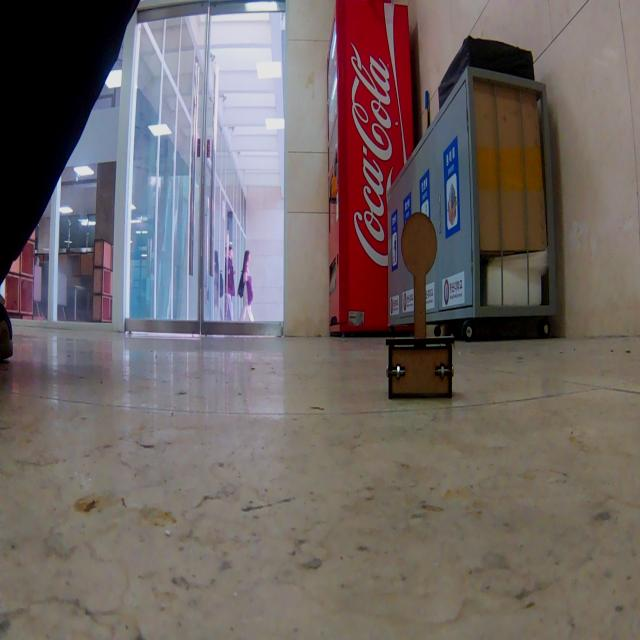target: (385, 211, 455, 400)
